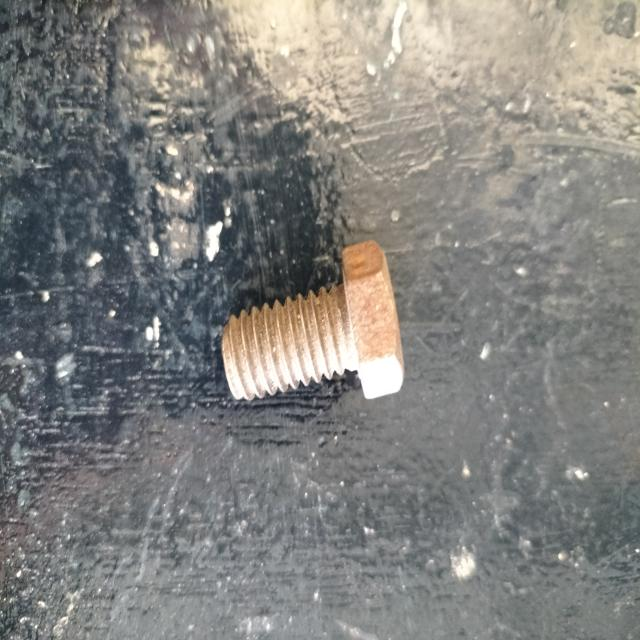bolt: (222, 240, 406, 399)
